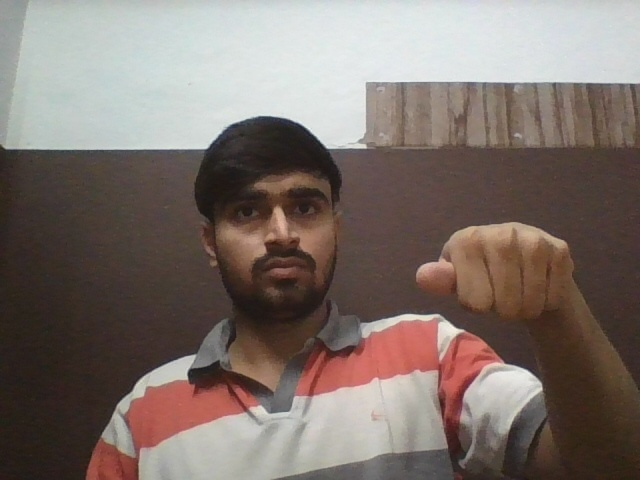Yes: (414, 221, 575, 324)
